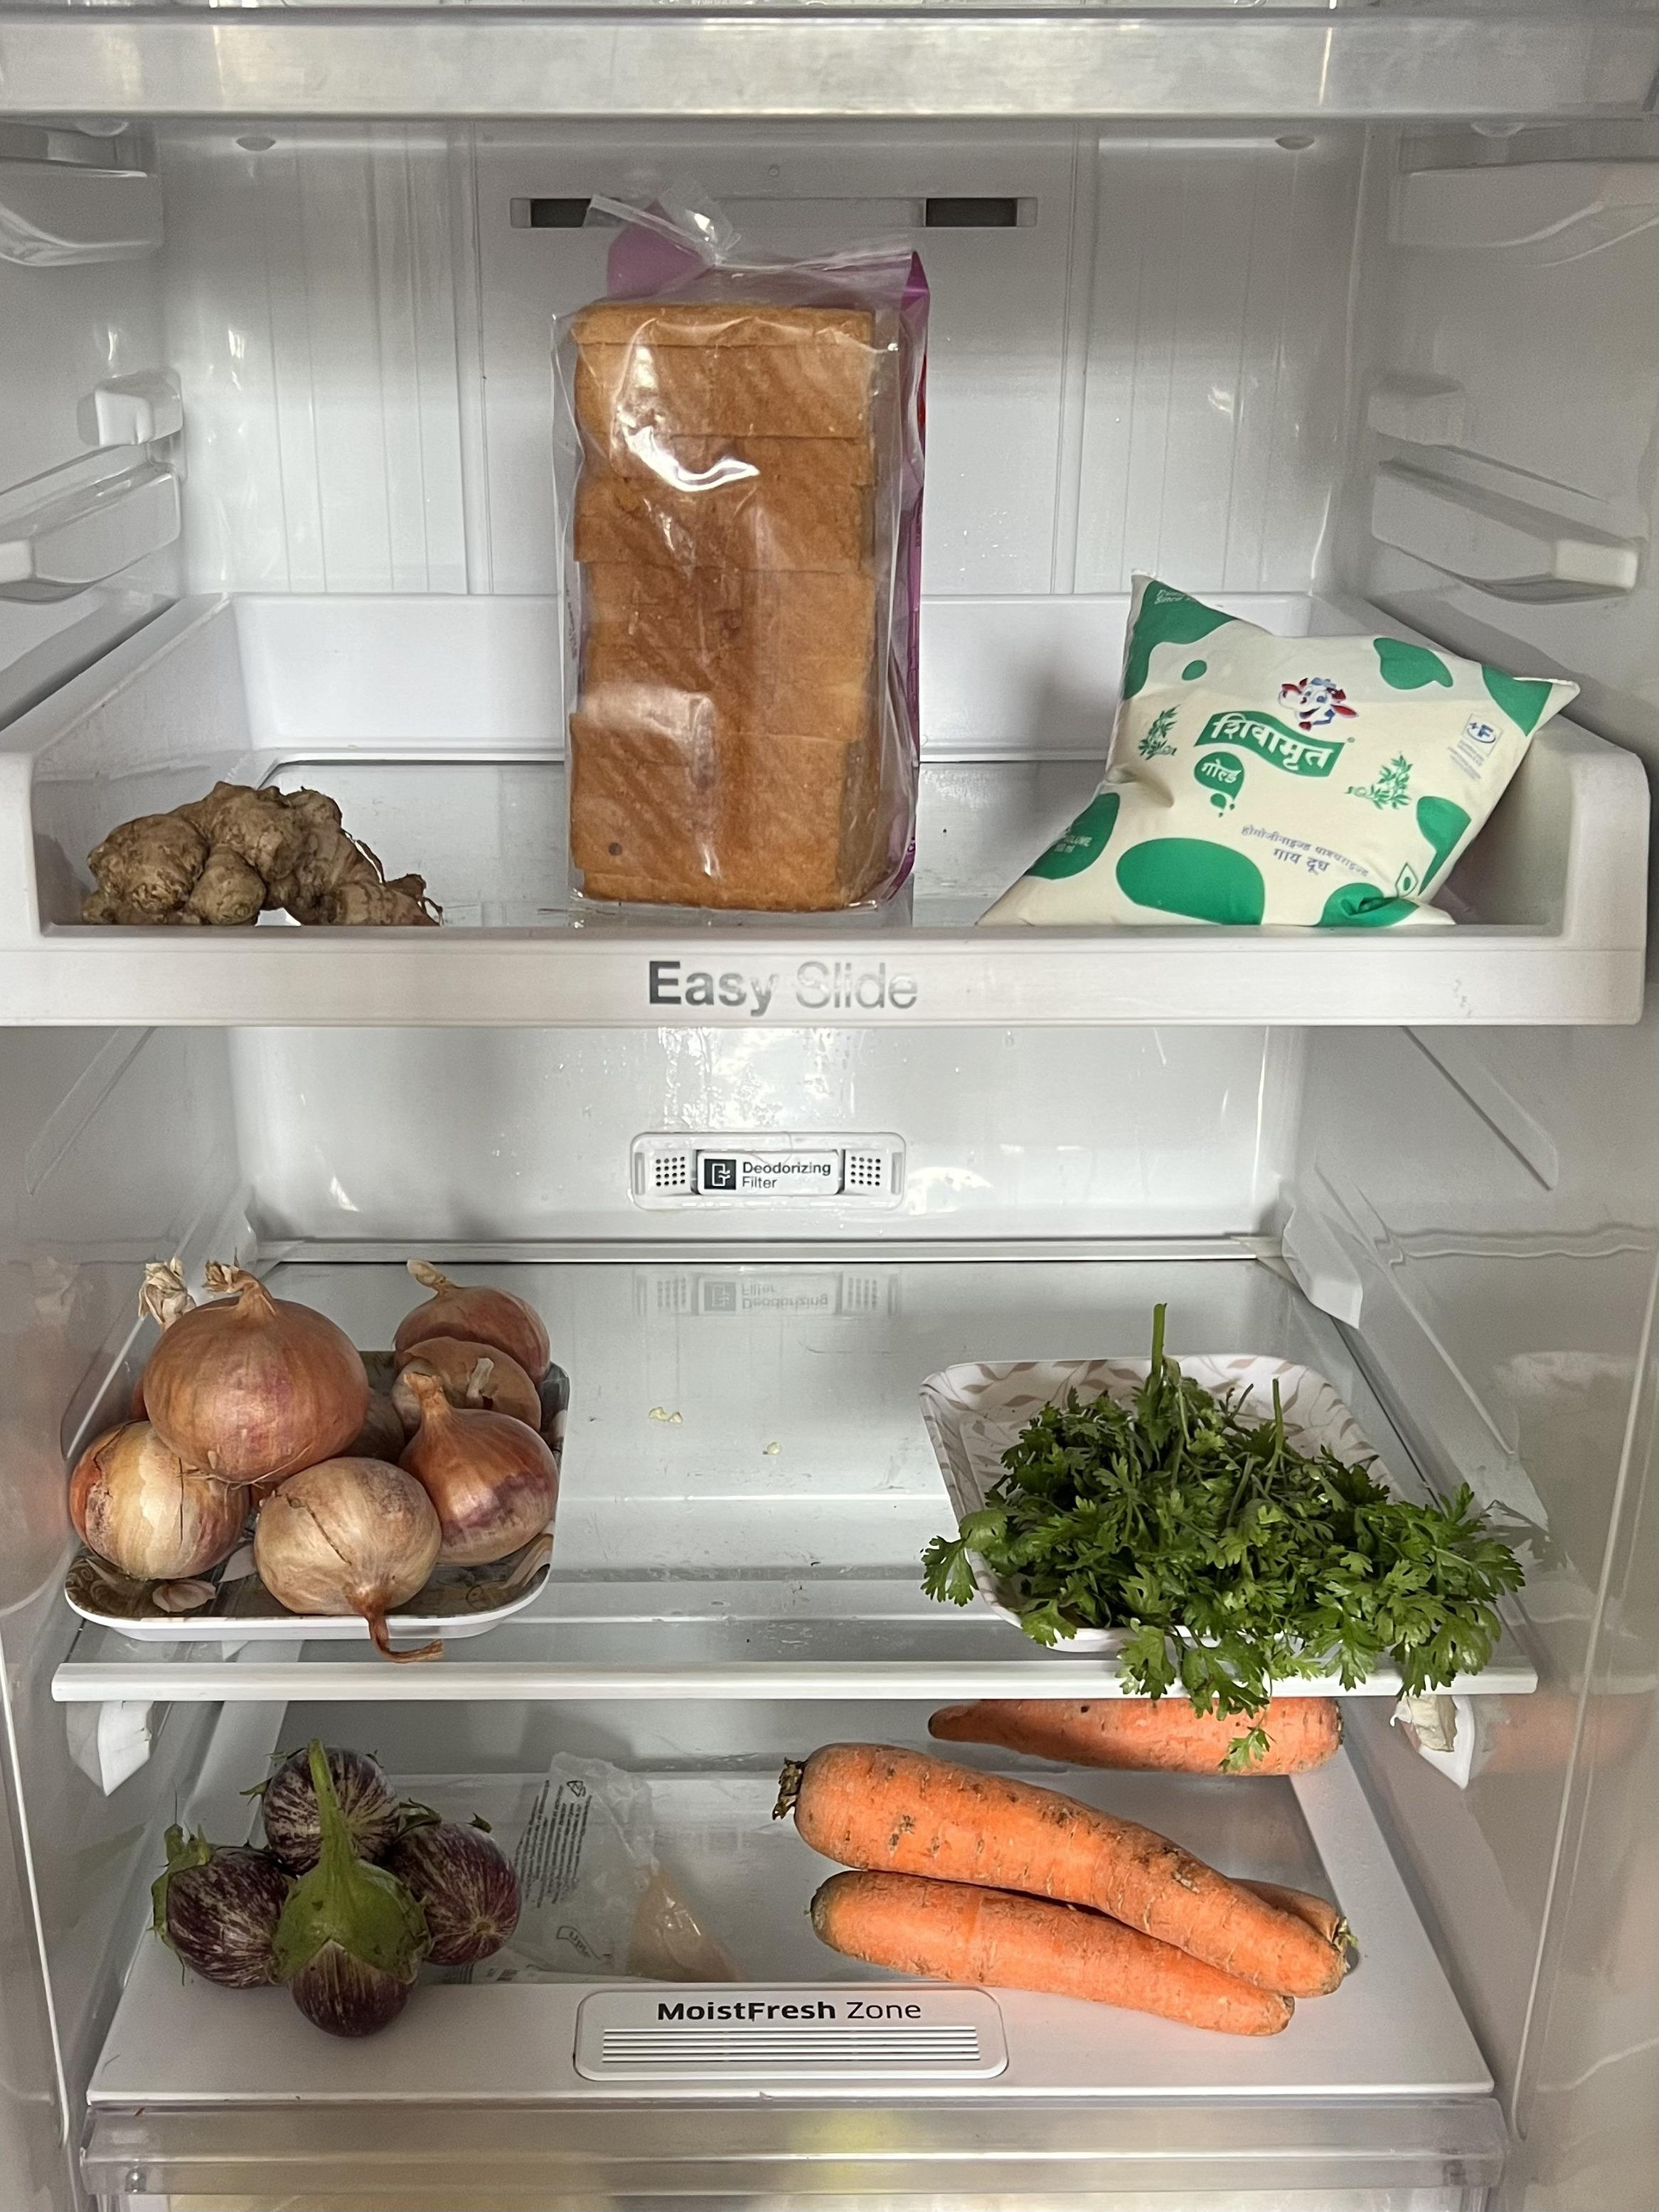bread: (530, 240, 955, 907)
bringal: (155, 1740, 519, 2027)
carrots: (769, 1707, 1371, 2036)
coriander: (945, 1338, 1502, 1662)
ginger: (82, 768, 443, 935)
milk: (988, 566, 1572, 930)
onion: (71, 1259, 549, 1618)
